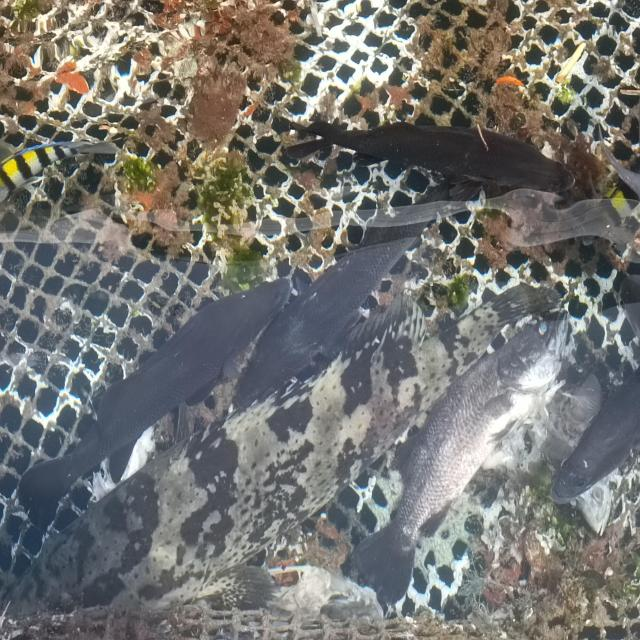ikan: (341, 307, 574, 618), (15, 273, 296, 521), (281, 115, 576, 202), (0, 137, 124, 204)
